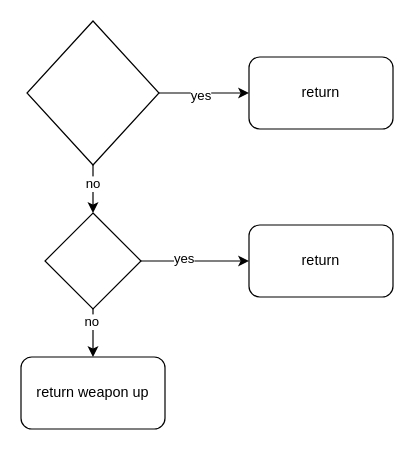
The diagram is 414 pixels wide and 450 high, and some of its shapes have lost their labels. The centre of each missing label's shape, as x and y in pixels:
!resources: pixel 92 260
smith < weapon +1?: pixel 92 92
